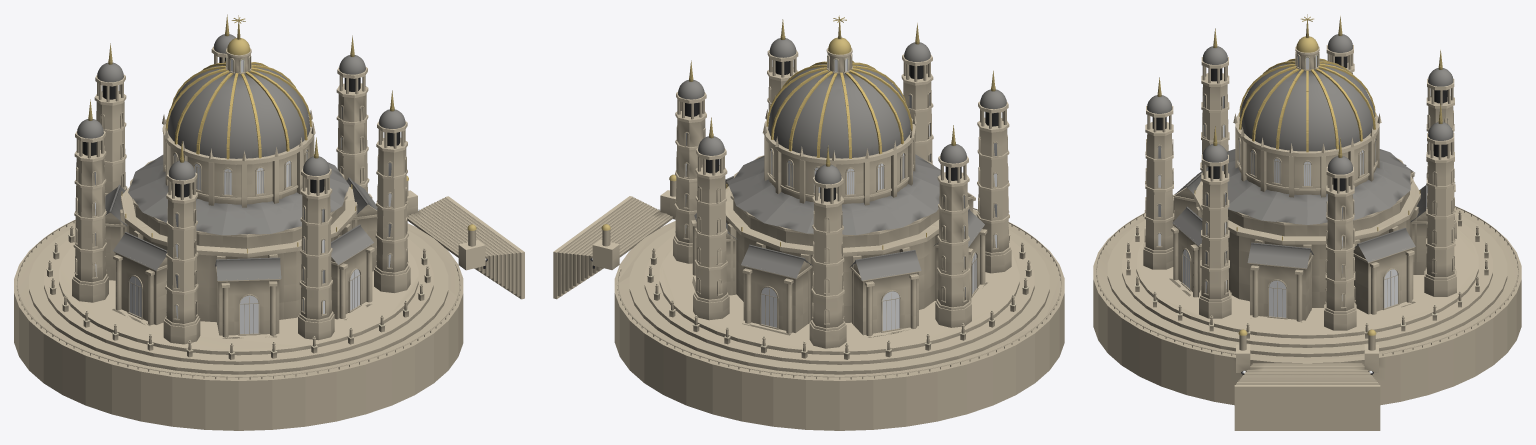
File: sept_hd.glb
3 renders of one model, left to right at view 1: azimuth 30°, elevation 25°; view 2: azimuth 150°, elevation 25°; view 3: azimuth 270°, elevation 25°, orthographic. The views are drawn at different scales.
Parts seen in each view (by area): view 1: sept_hd; view 2: sept_hd; view 3: sept_hd.
Boxes of the visible parts, left/top/right/bottom form: sept_hd: left=14, top=14, right=524, bottom=430; sept_hd: left=553, top=15, right=1064, bottom=430; sept_hd: left=1093, top=14, right=1521, bottom=430.
Size of the model in its own units: 204 by 142 by 179.
